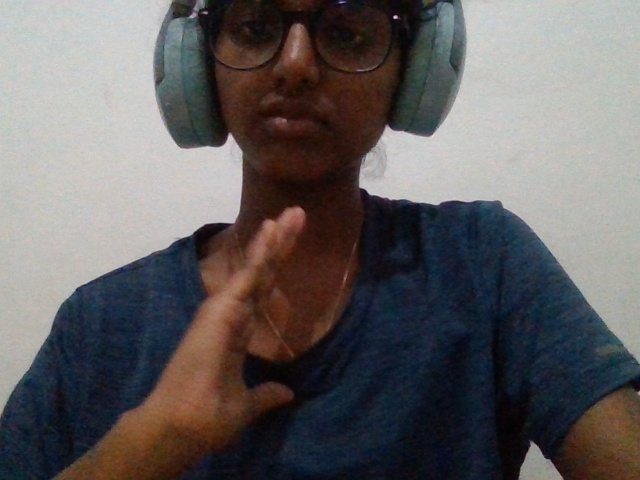Fine: (106, 174, 325, 446)
